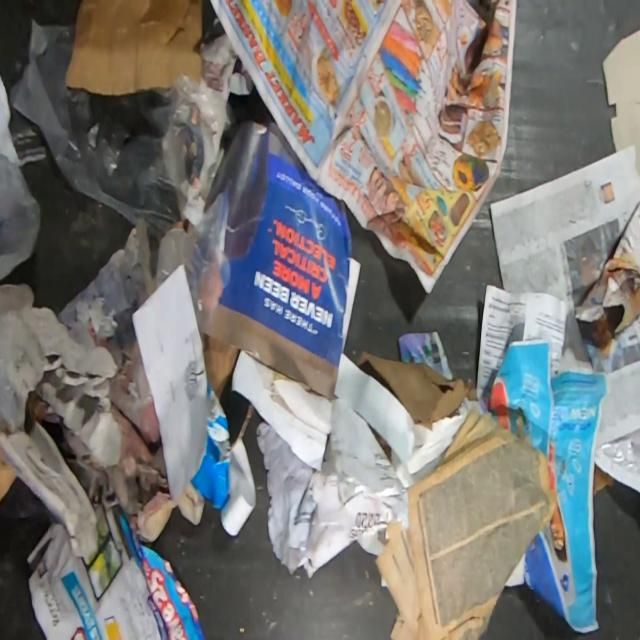cardboard: (65, 0, 203, 96), (201, 332, 239, 400)
soft_plastic: (9, 19, 352, 396), (0, 152, 42, 284)
